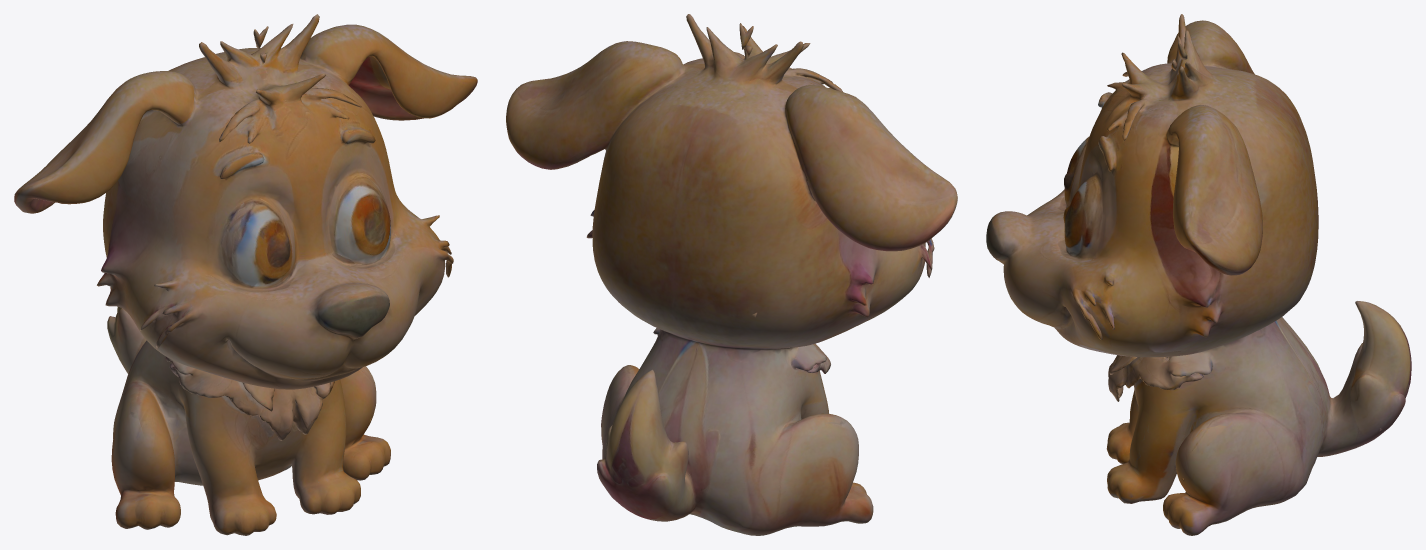
3 renders of one model, left to right at view 1: azimuth 30°, elevation 25°; view 2: azimuth 150°, elevation 25°; view 3: azimuth 270°, elevation 25°, orthographic. The views are drawn at different scales.
Visible parts, largest first — view 1: file1; view 2: file1; view 3: file1.
Boxes of the visible parts, <box> form: file1: <box>14,14,477,535</box>; file1: <box>506,14,957,535</box>; file1: <box>986,14,1411,535</box>.
Bounding box in the file's own units: 2 × 1.99 × 1.74.
1 material, 1 textured.
